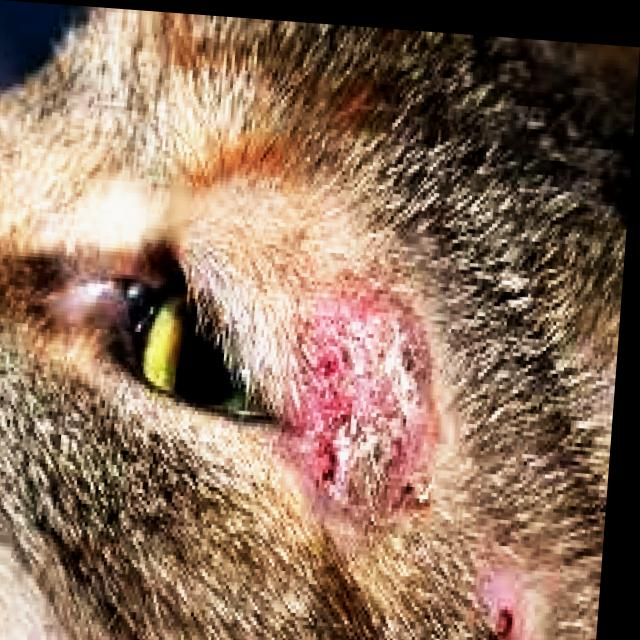ringworm: (277, 280, 442, 523)
